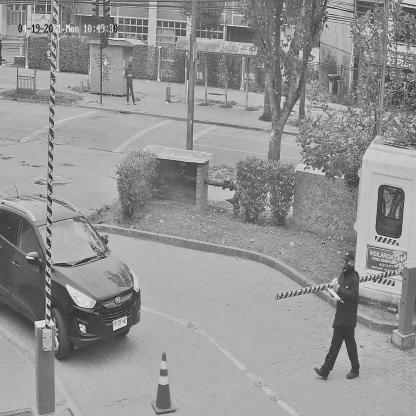Patente: (113, 314, 129, 333)
